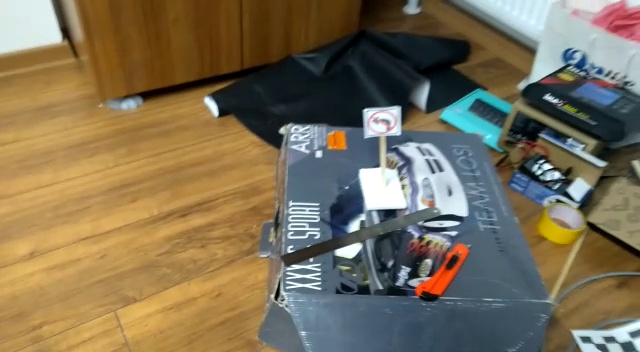sola_donulmez: (365, 106, 398, 139)
